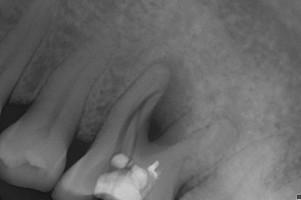Dental Caries: (147, 56, 191, 141)
